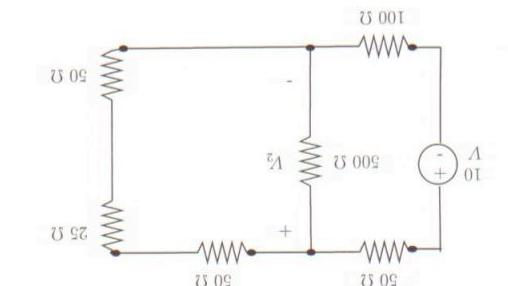resistor: (345, 229, 419, 262), (342, 29, 420, 60), (190, 231, 256, 267), (96, 185, 128, 253), (95, 34, 127, 98), (294, 127, 325, 190)
